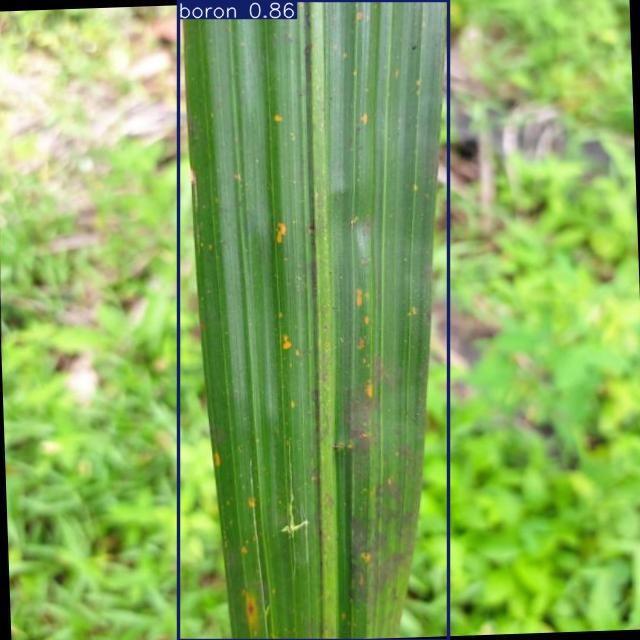nitrogen: (179, 0, 449, 640)
